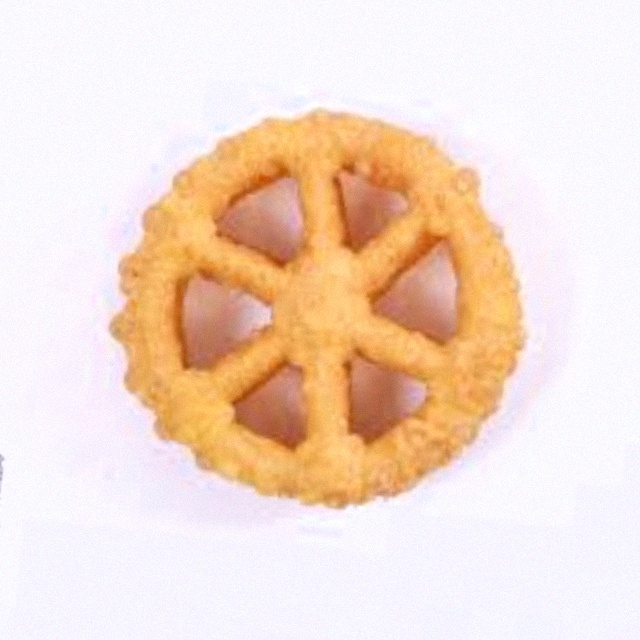Kokis: (116, 76, 524, 564)
